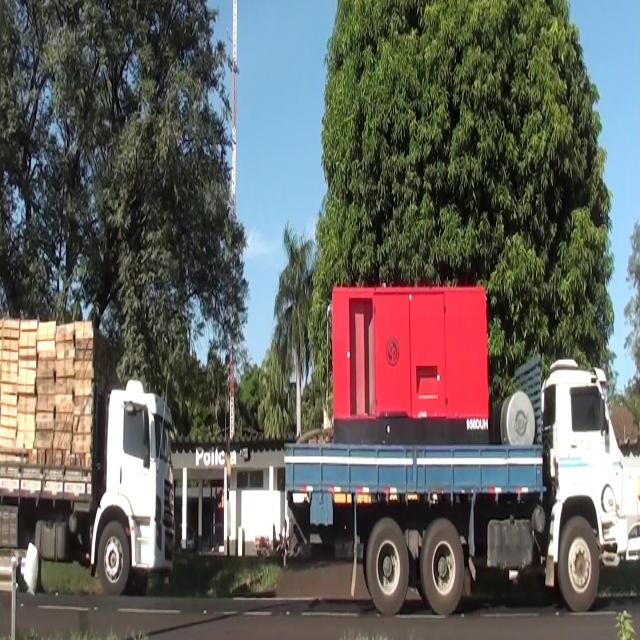-axle: (418, 516, 466, 618), (555, 513, 602, 612), (368, 516, 408, 616), (97, 522, 129, 594)
